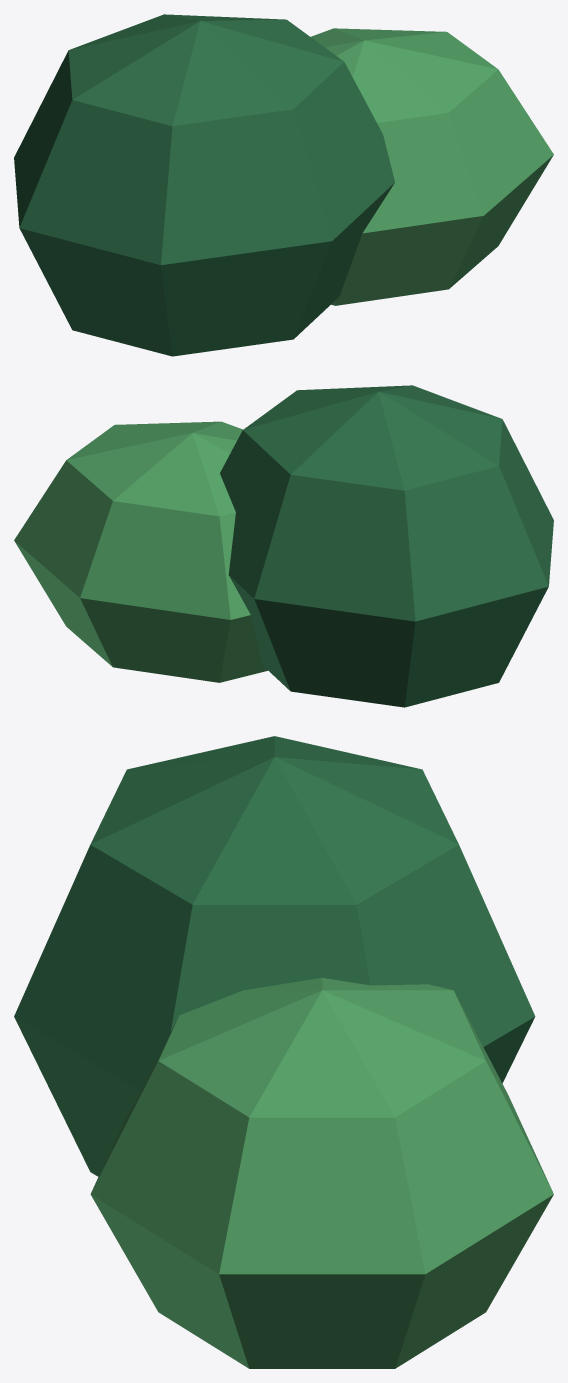
File: bush.glb
The picture shows the model from 3 angles, top to bottom: view 1: azimuth 30°, elevation 25°; view 2: azimuth 150°, elevation 25°; view 3: azimuth 270°, elevation 25°; orthographic projection. The views are drawn at different scales.
Parts seen in each view (by area): view 1: RF_Bush_Asset_Asset; view 2: RF_Bush_Asset_Asset; view 3: RF_Bush_Asset_Asset.
Part boxes in pixels (left/top/right/bottom): RF_Bush_Asset_Asset: left=14, top=14, right=553, bottom=356; RF_Bush_Asset_Asset: left=14, top=385, right=553, bottom=707; RF_Bush_Asset_Asset: left=14, top=736, right=553, bottom=1368.
Bounding box in the file's own units: 1.42 × 0.86 × 0.9087.
